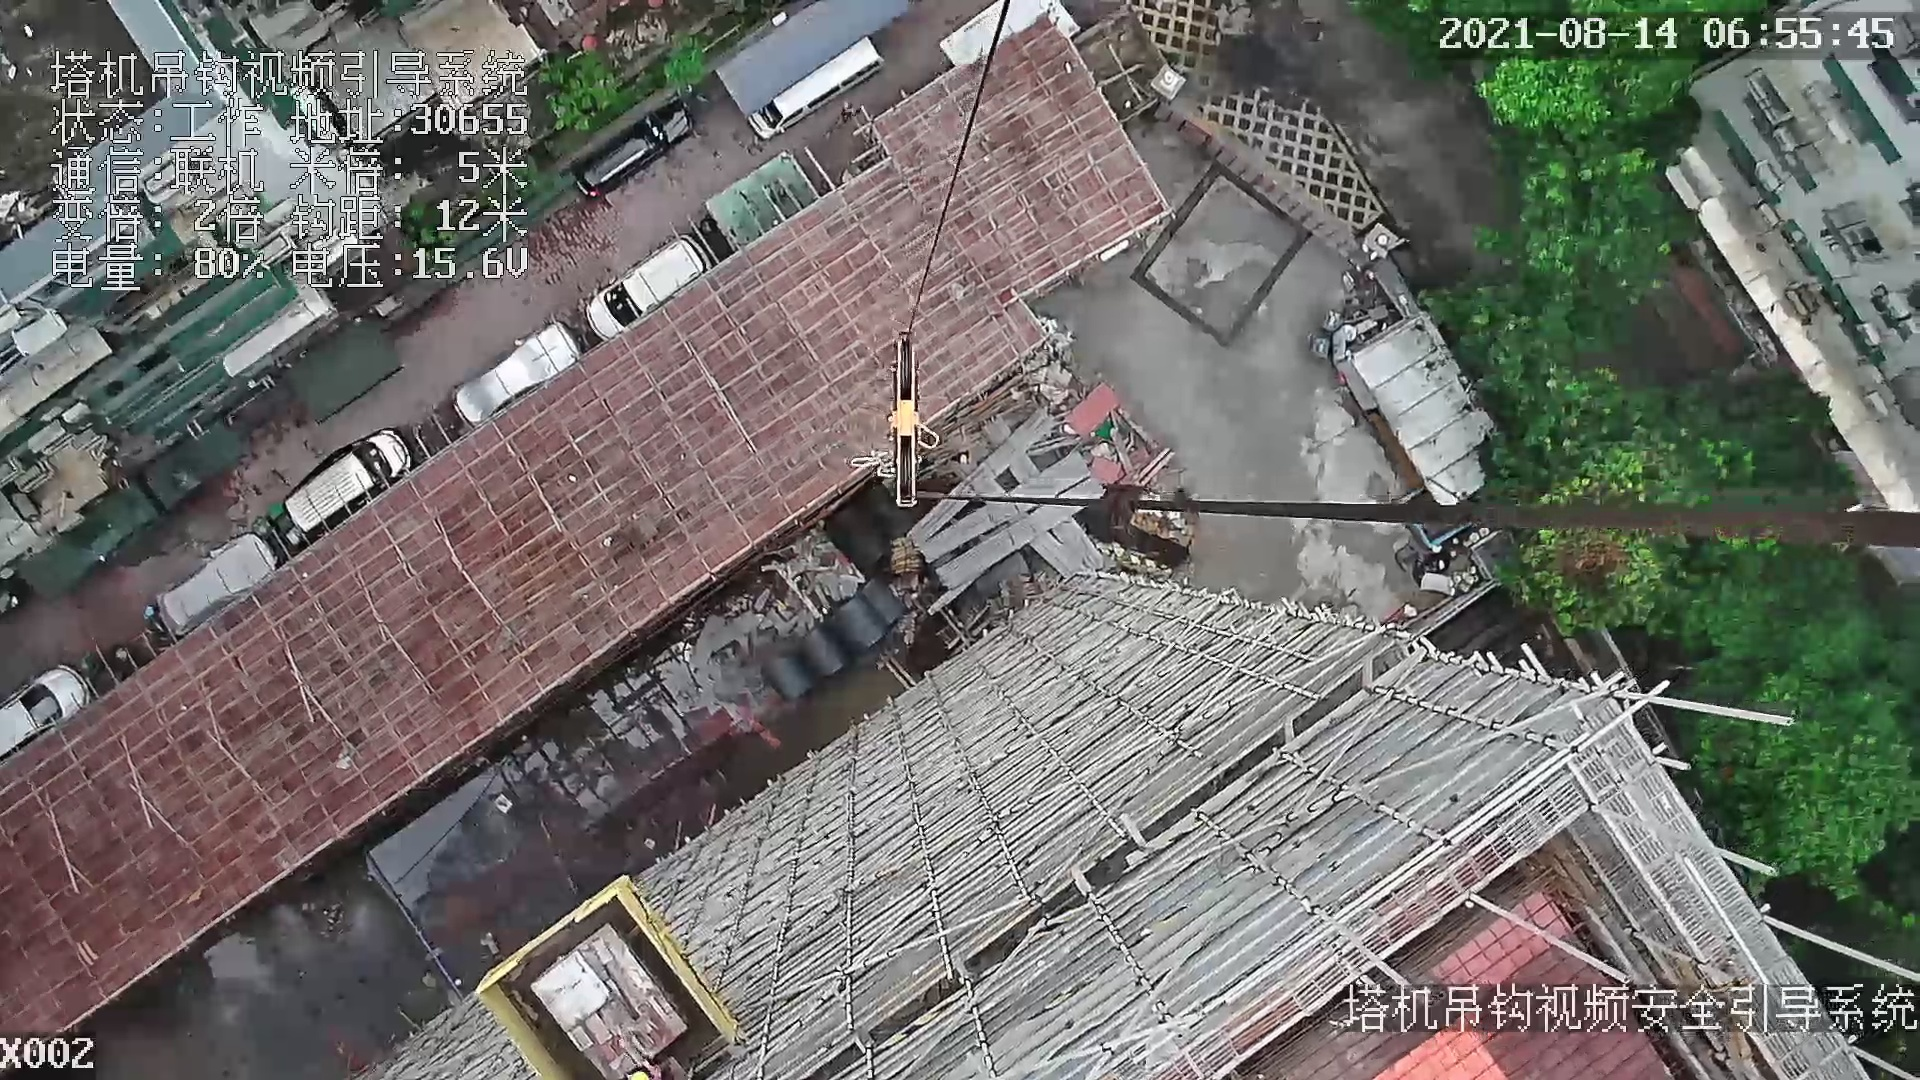board: (527, 923, 688, 1080)
hook: (894, 334, 942, 505)
rebar: (906, 409, 1058, 547), (918, 451, 1091, 563), (938, 480, 1105, 591), (1030, 531, 1081, 578), (1054, 520, 1100, 566)
